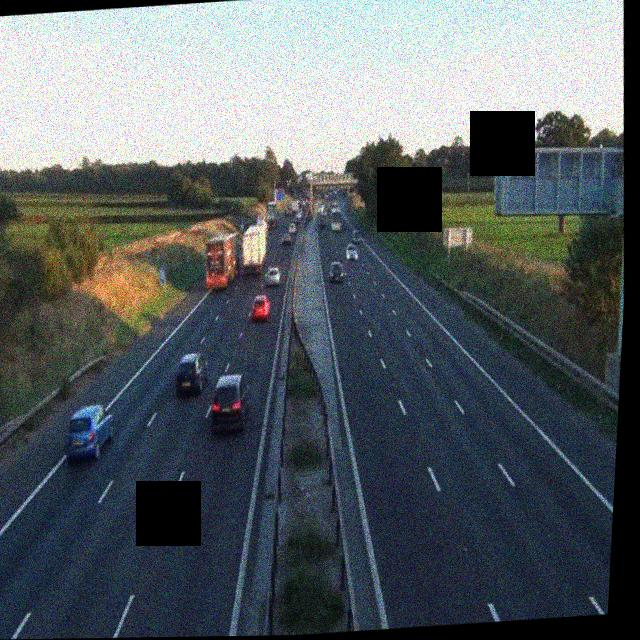car: (63, 404, 117, 462), (207, 375, 251, 434), (174, 351, 211, 397), (250, 295, 270, 322), (265, 265, 281, 287), (329, 261, 345, 283), (346, 243, 360, 262), (282, 231, 293, 245), (353, 226, 363, 239), (289, 218, 299, 231), (328, 218, 337, 230)
truck: (203, 231, 242, 292), (238, 218, 269, 274)
